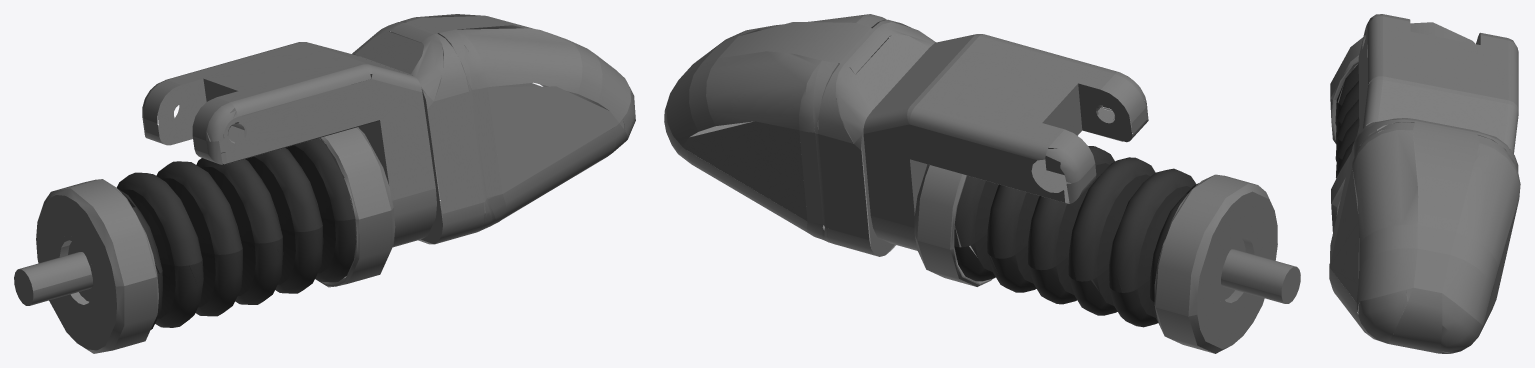
File: handl_finger_pinky2_joint.obj
3 renders of one model, left to right at view 1: azimuth 30°, elevation 25°; view 2: azimuth 150°, elevation 25°; view 3: azimuth 270°, elevation 25°, orthographic.
Bounding box in the file's own units: 0.0539 × 0.0198 × 0.0149.
1 material, 1 textured.
